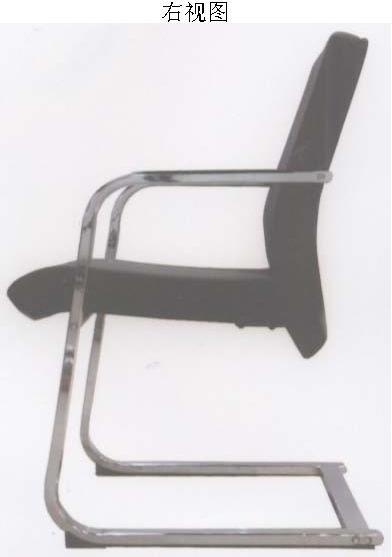obstacle: (9, 32, 382, 547)
